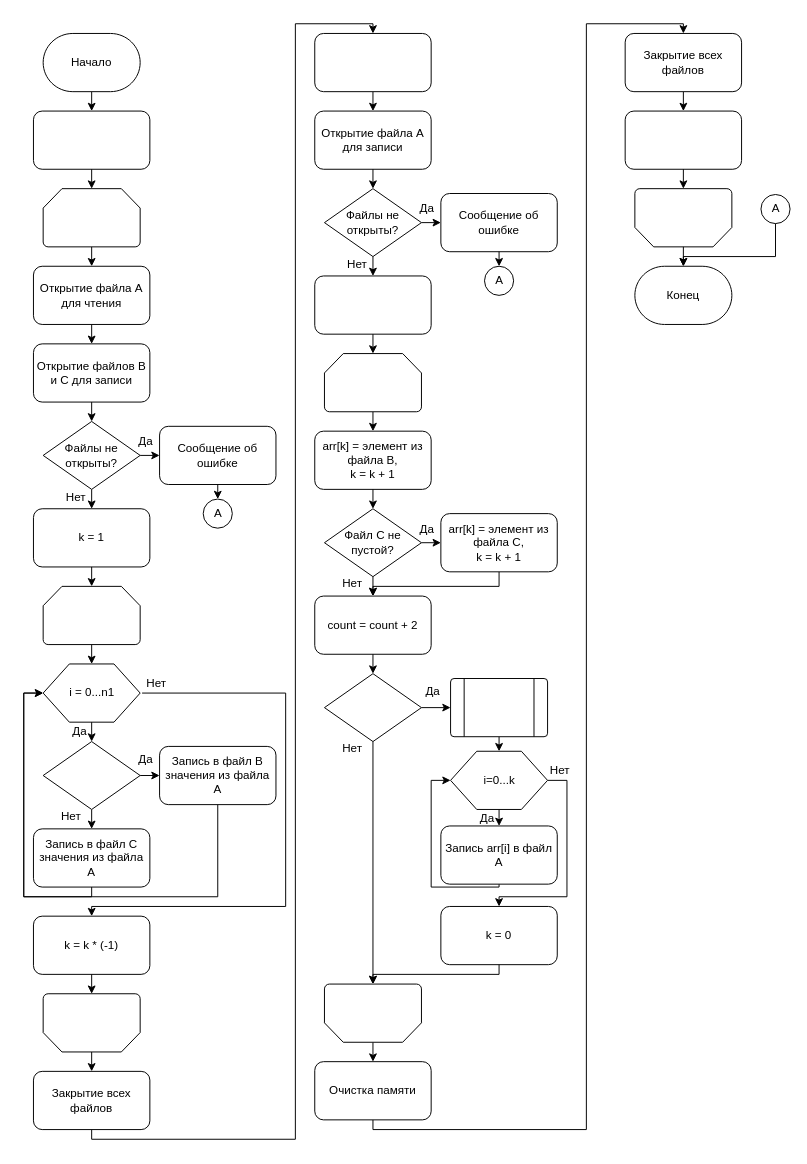
This 807x1164 diagram has some shape labels left out. The shapes that lost their labels are listed below. From the top down, each one's box as (x1, y1, x2, y2) in pixels, then its label:
(314, 32, 431, 92): Открытие файлов В и С для чтения
(32, 110, 150, 169): n1 = 1
(624, 110, 742, 169): n1 = n1 * 2
(42, 188, 140, 247): Цикл 1 Пока n1 < n
(634, 188, 732, 247): Цикл 1
(314, 275, 431, 334): k = 0, count = 0 Массив arr на 2*n1 элеменов
(323, 353, 421, 412): Цикл 3 Пока не конец файла В
(42, 585, 140, 645): Цикл 2 Пока не конец файла А
(323, 673, 421, 742): count кратно 2*n1?
(450, 678, 548, 737): insertion_sort
(42, 741, 140, 809): k > 0
(42, 993, 140, 1052): Цикл 2
(323, 983, 421, 1042): Цикл 3
